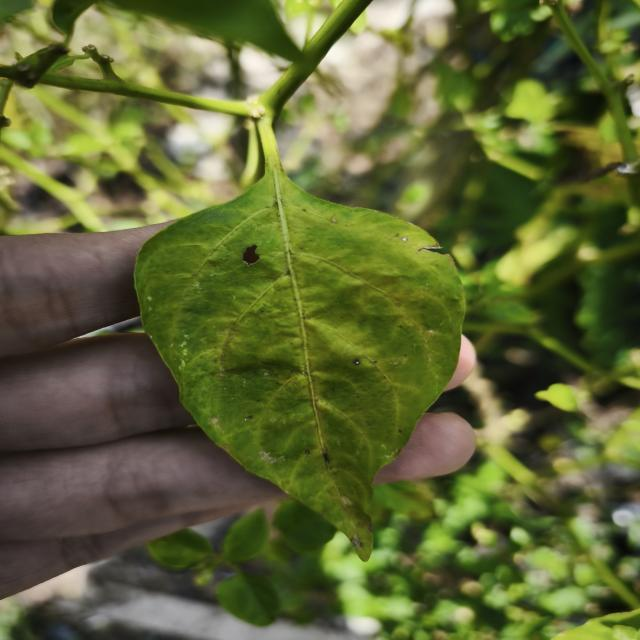Virus Kuning: (132, 172, 468, 562)
